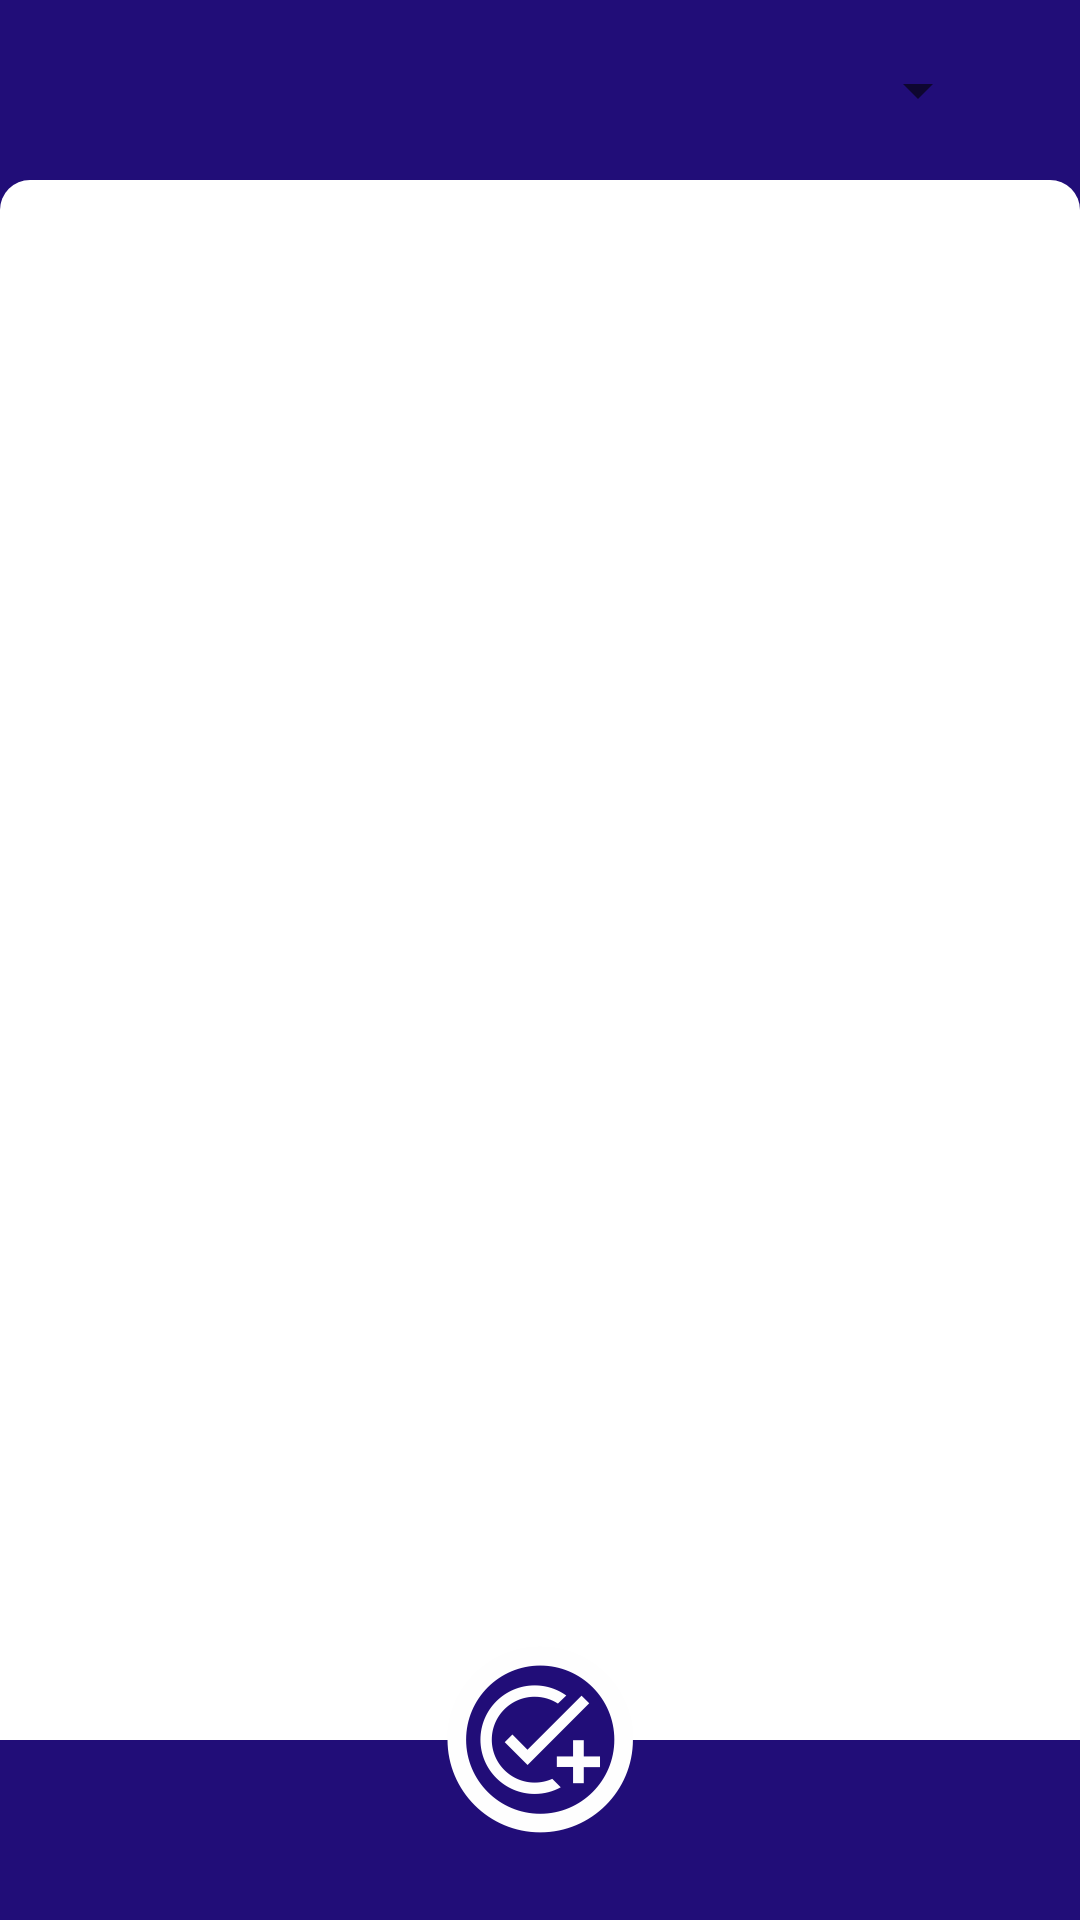

Icons on this 1080px x 1920px Android screen, each with the point to tap as (x,y):
Adicionar tarefa: (540,1739)
